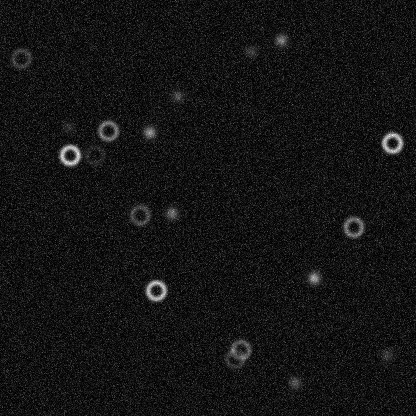Ring: (380, 130, 404, 154), (8, 46, 32, 70), (96, 118, 120, 142), (228, 337, 252, 361), (143, 278, 167, 302), (222, 346, 246, 370), (341, 214, 365, 238), (82, 142, 106, 166), (57, 143, 81, 167), (127, 203, 151, 227)
Spot: (141, 124, 157, 140), (286, 374, 302, 390), (169, 88, 185, 104), (243, 43, 259, 59), (378, 347, 394, 363), (273, 32, 289, 48), (163, 205, 179, 221), (59, 118, 75, 134), (305, 269, 321, 285)
